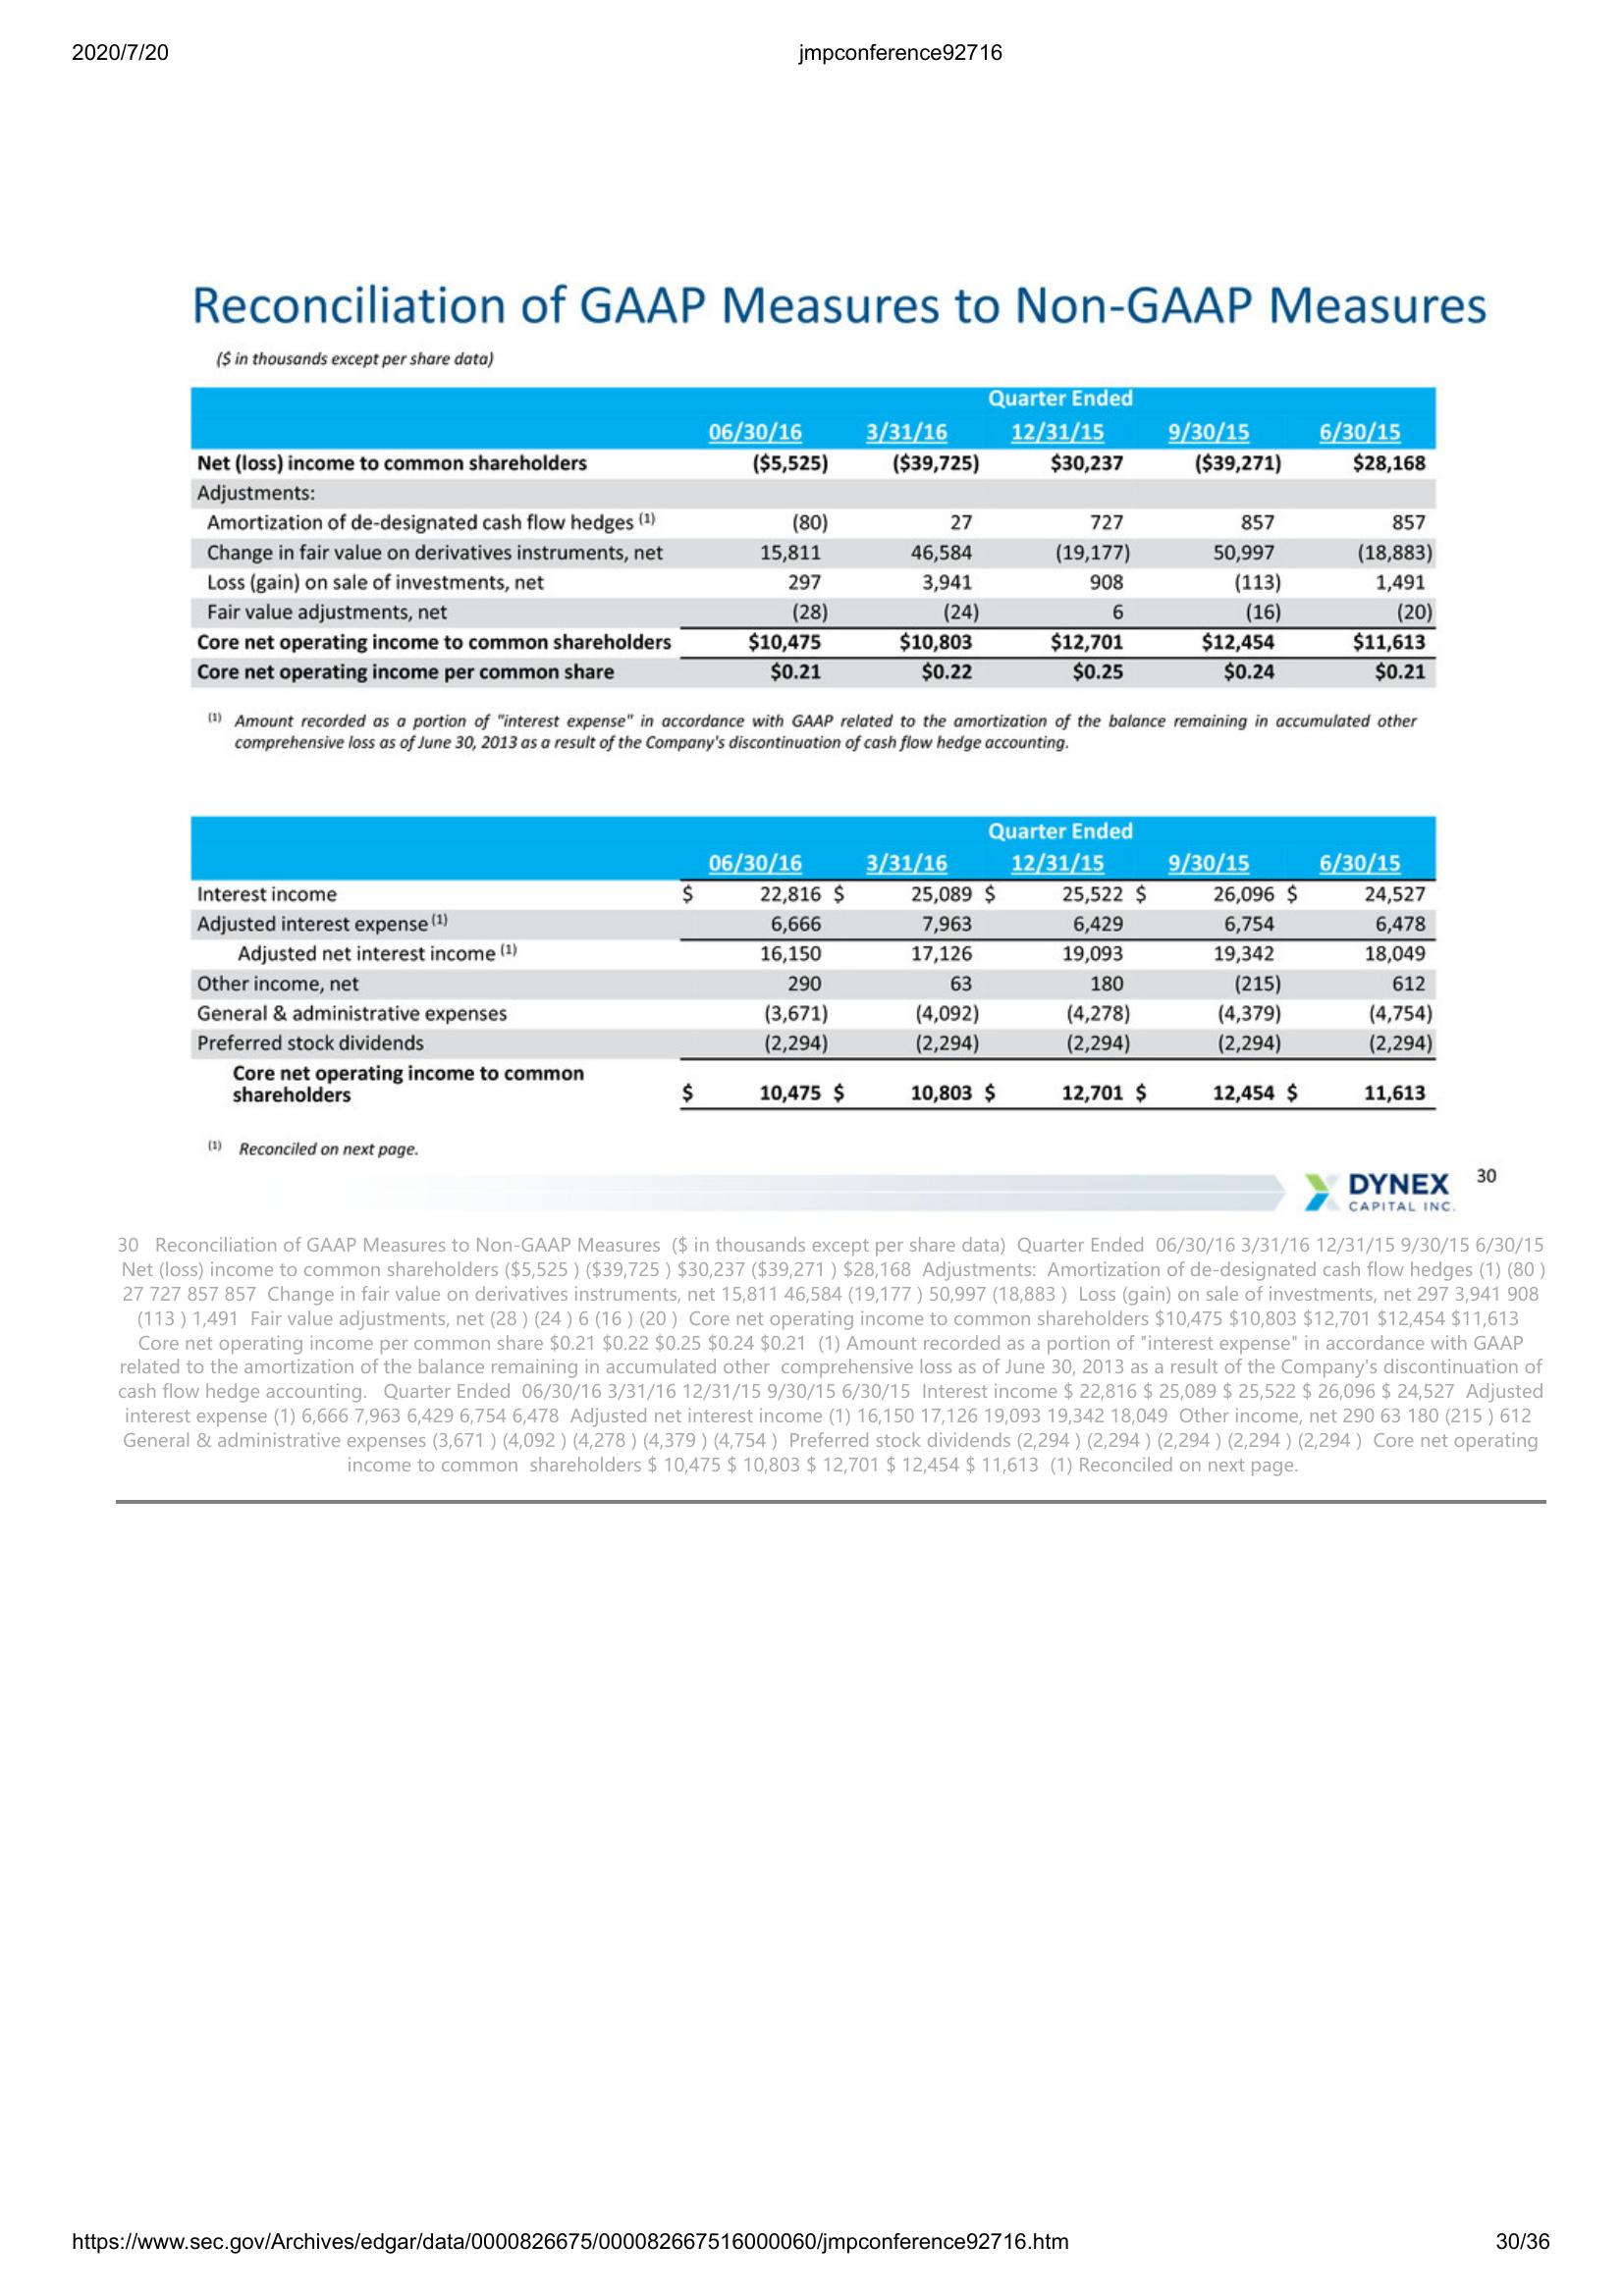table: (190, 381, 1444, 700), (181, 811, 1437, 1116)
